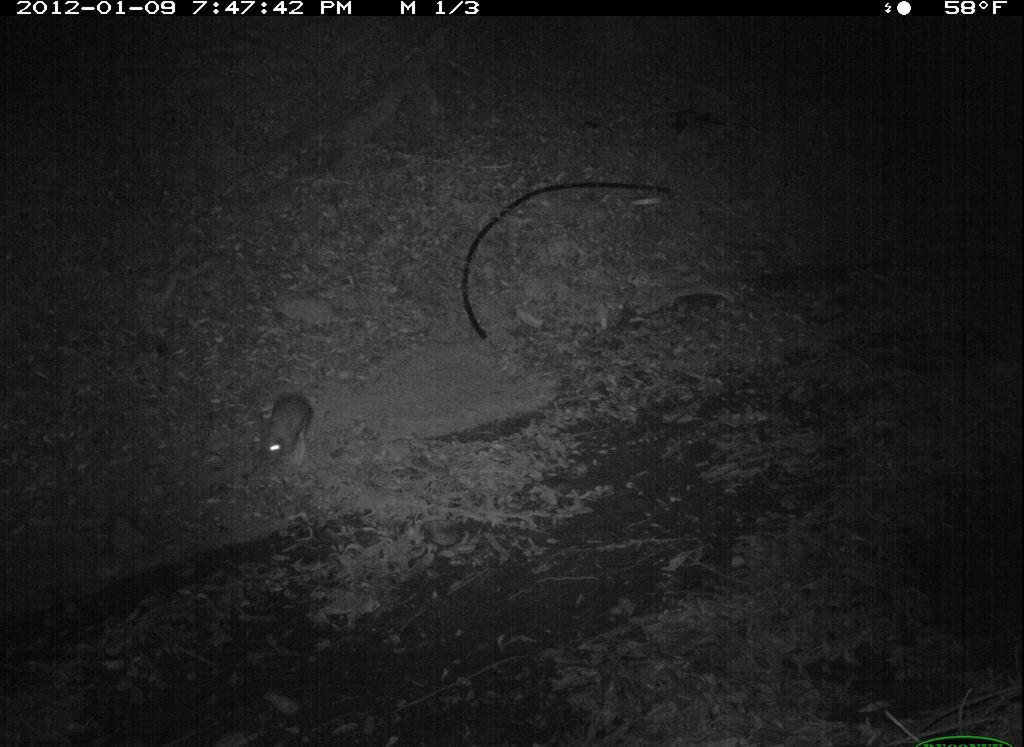rabbit: (249, 381, 327, 480)
